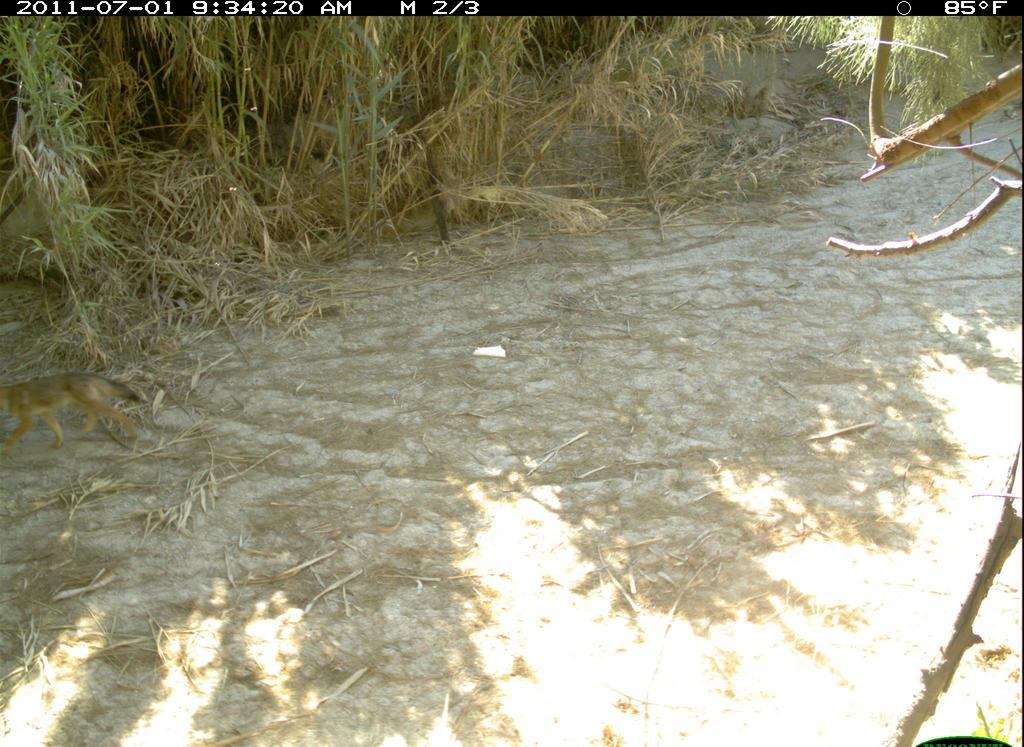coyote: (7, 359, 145, 451)
